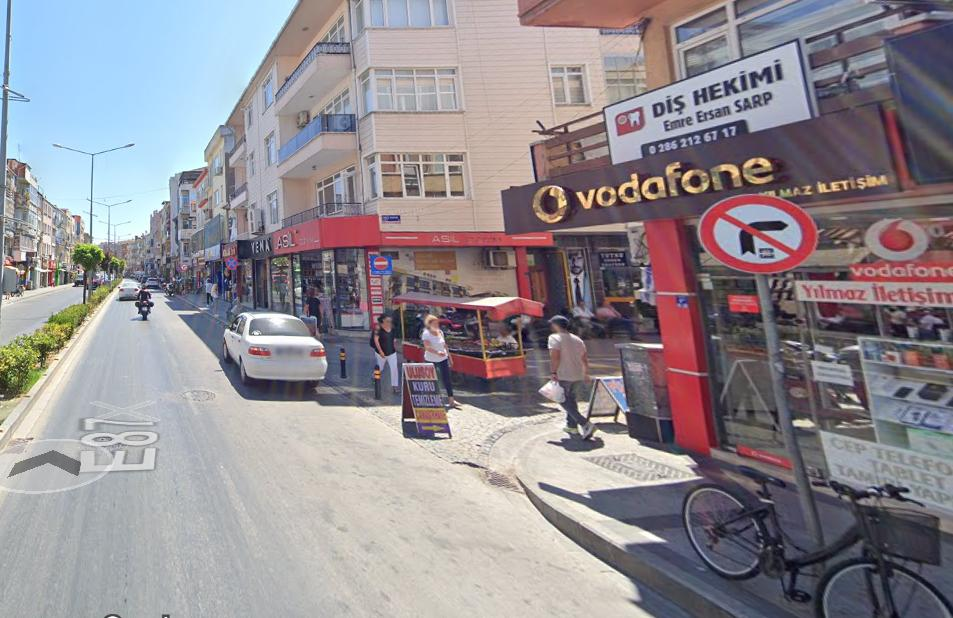rightturnsareforbidden: (699, 193, 818, 270)
